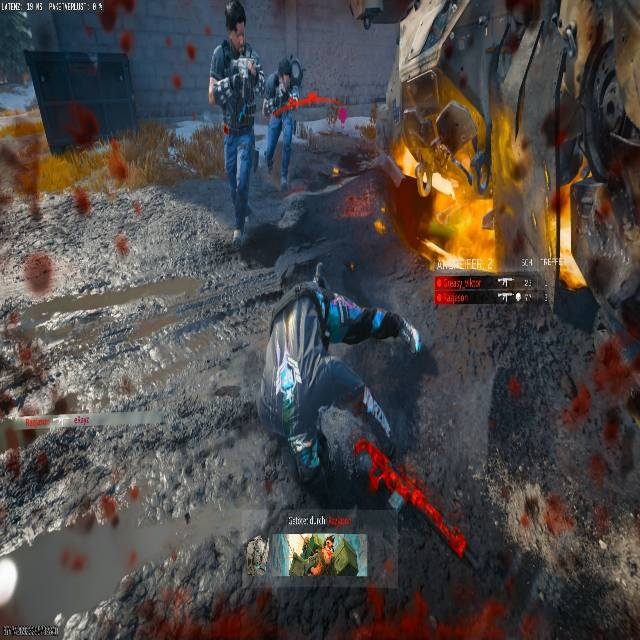head: (225, 1, 246, 46)
player: (273, 259, 405, 494), (208, 1, 285, 243), (262, 55, 302, 182)
